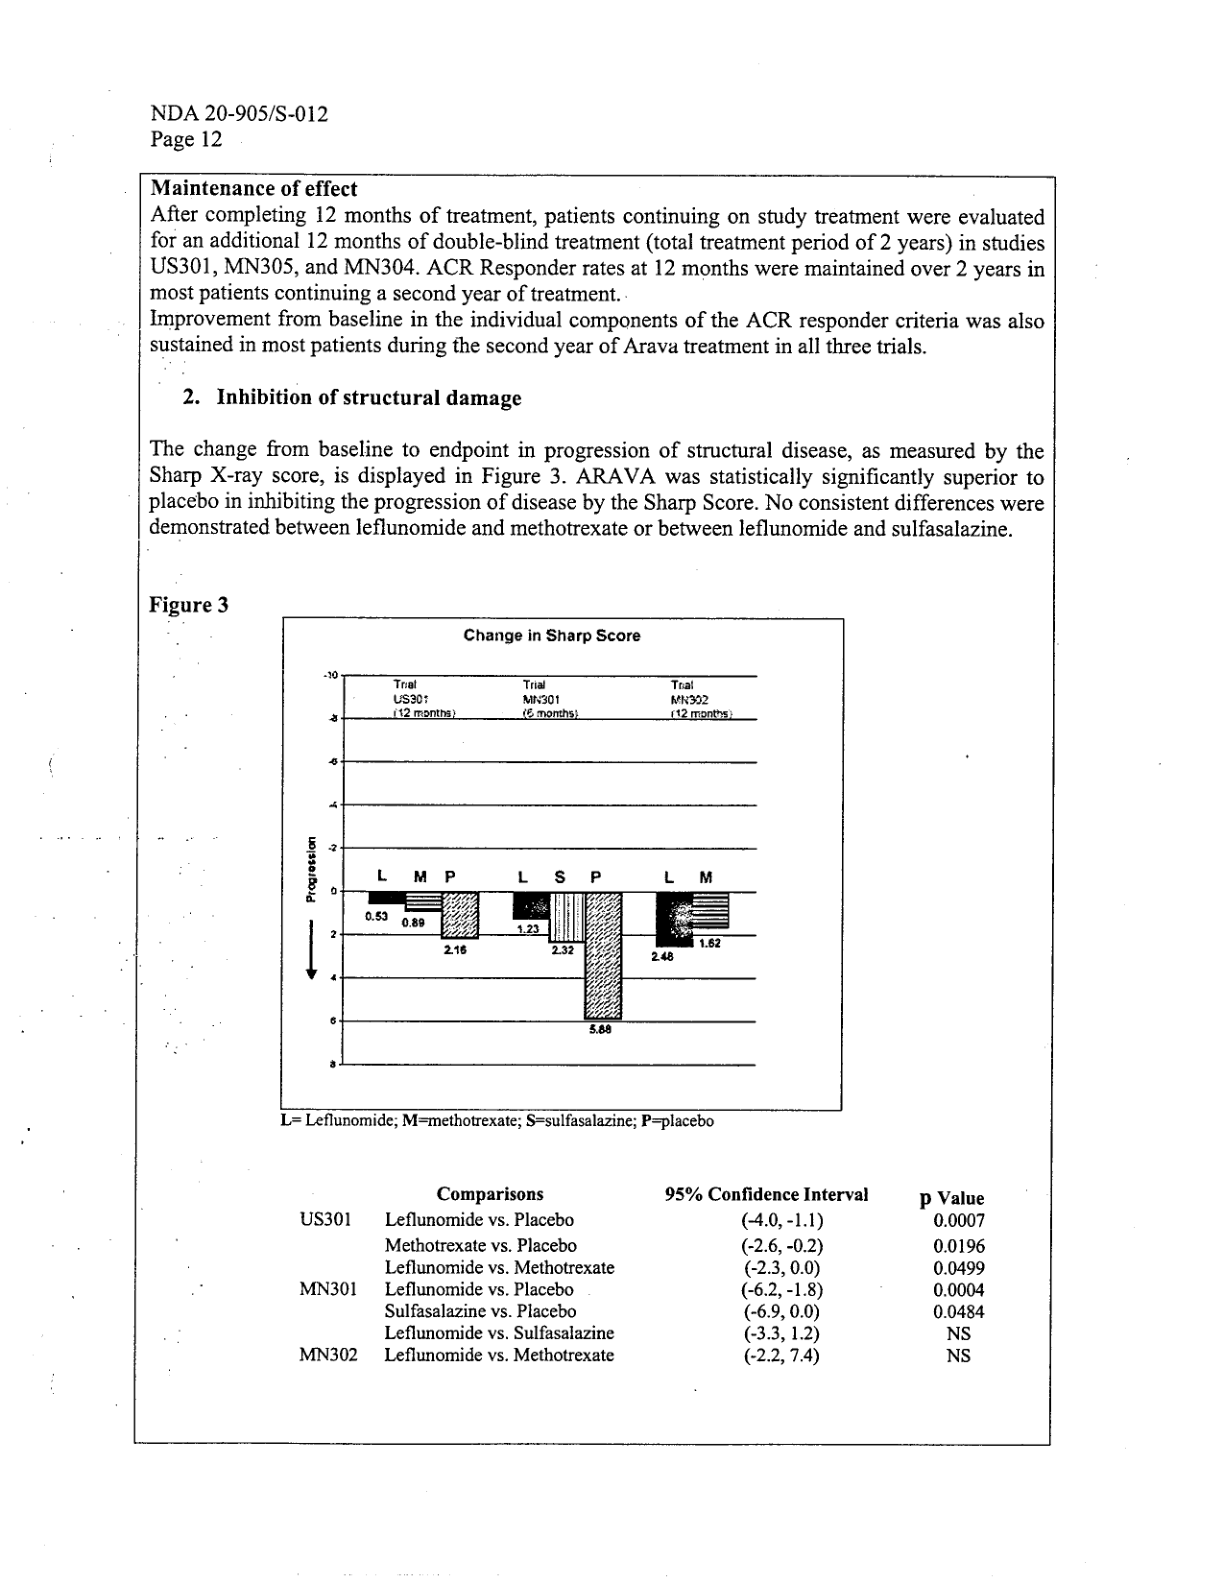nolines: (293, 1182, 991, 1371)
